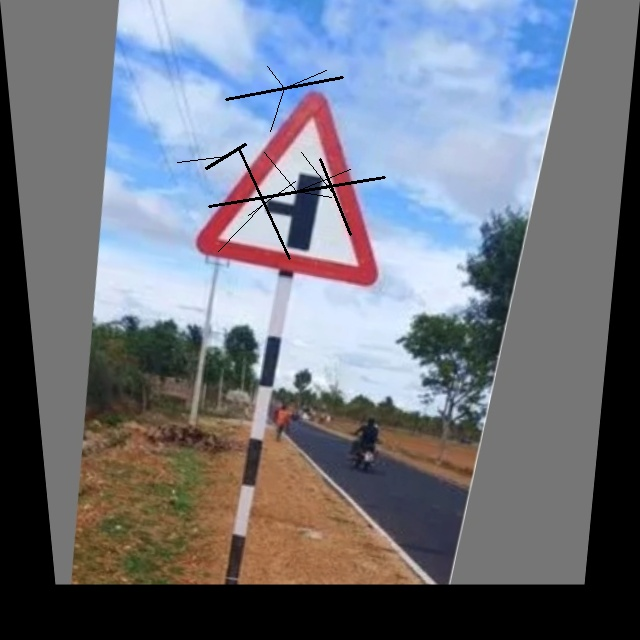Side_Road_Left: (189, 76, 408, 295)
